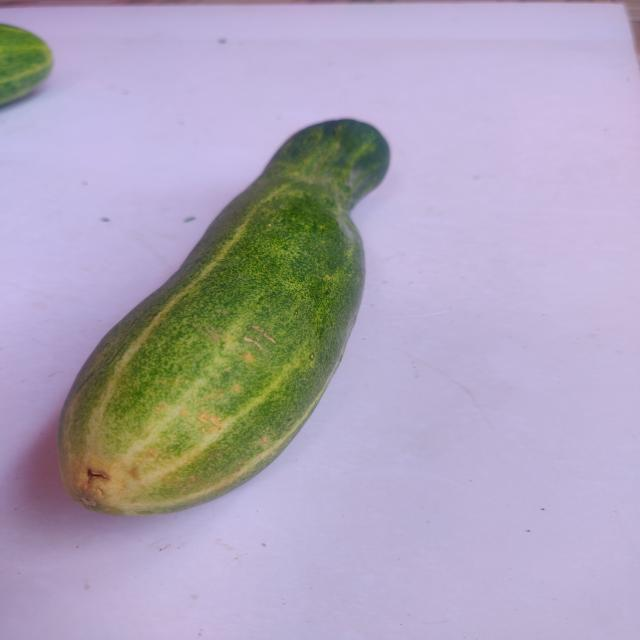Cucumber: (52, 114, 424, 531)
